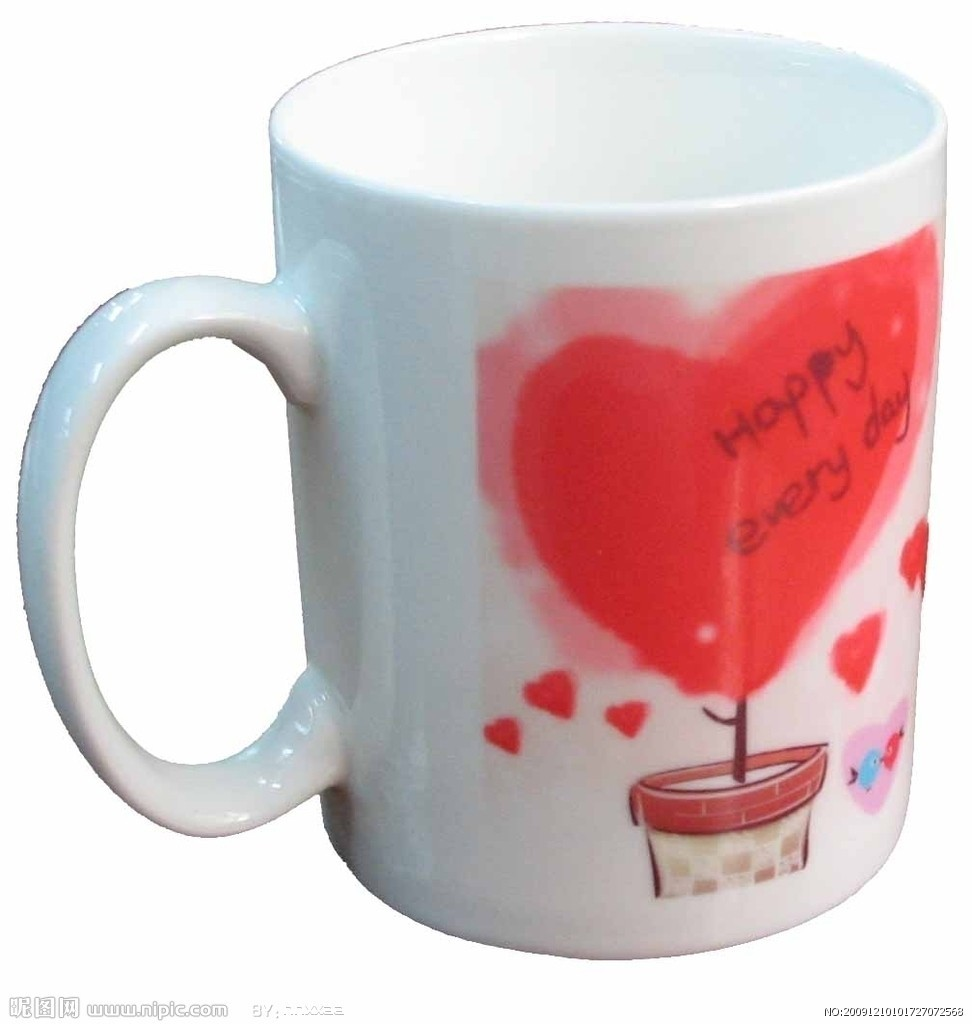cup: (18, 16, 948, 966)
